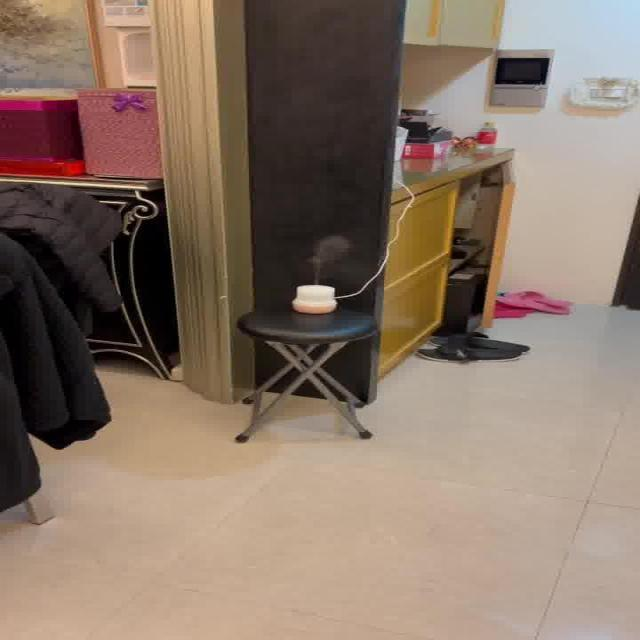fire: (307, 232, 353, 276)
